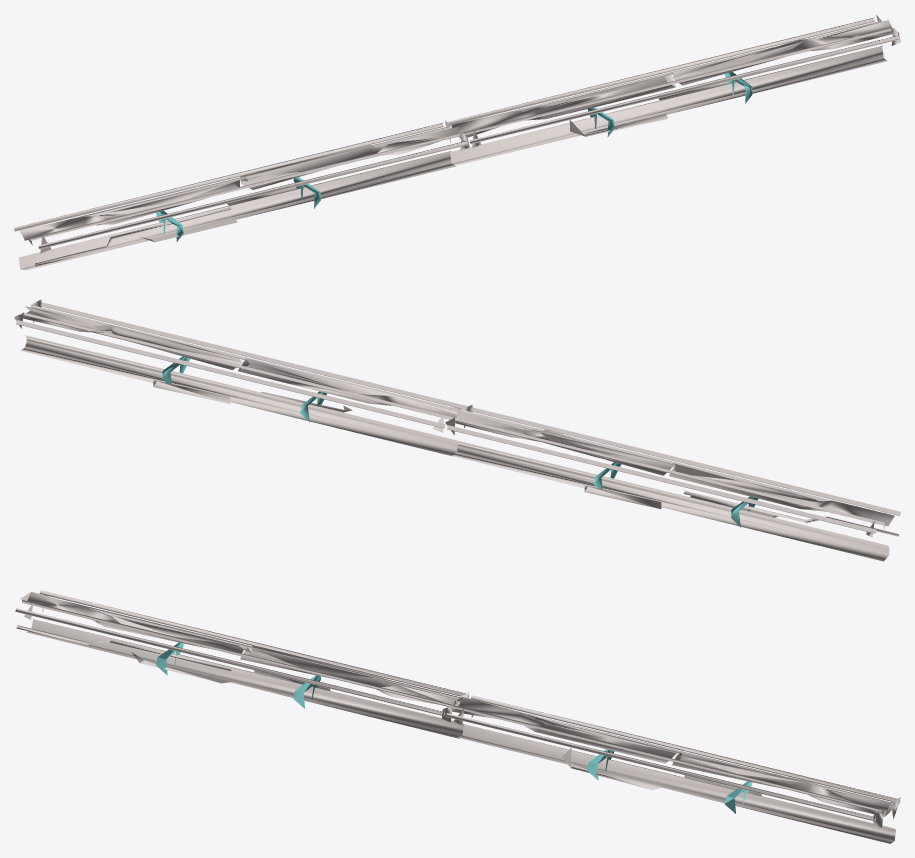
File: backdrop_bridge_a_lod3.glb
3 views of the same model, one above another, from view 1: azimuth 30°, elevation 25°; view 2: azimuth 150°, elevation 25°; view 3: azimuth 330°, elevation 25° (orthographic).
Bounding box in the file's own units: 341 × 16.39 × 19.51.
